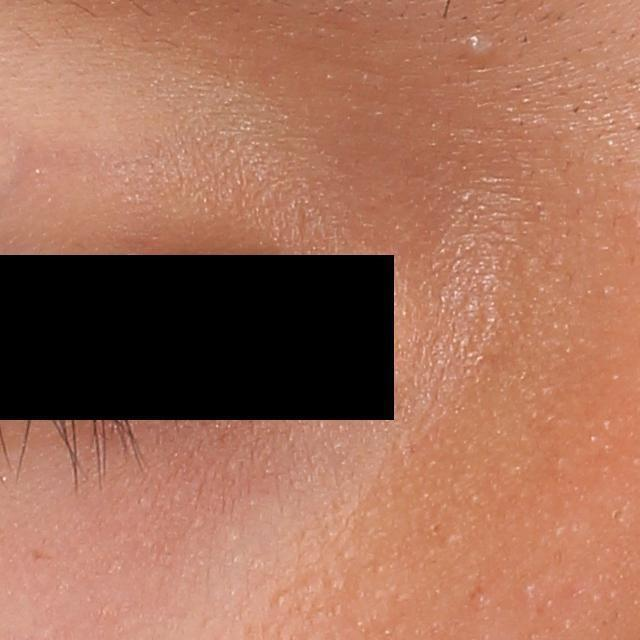other: (450, 22, 513, 71)
